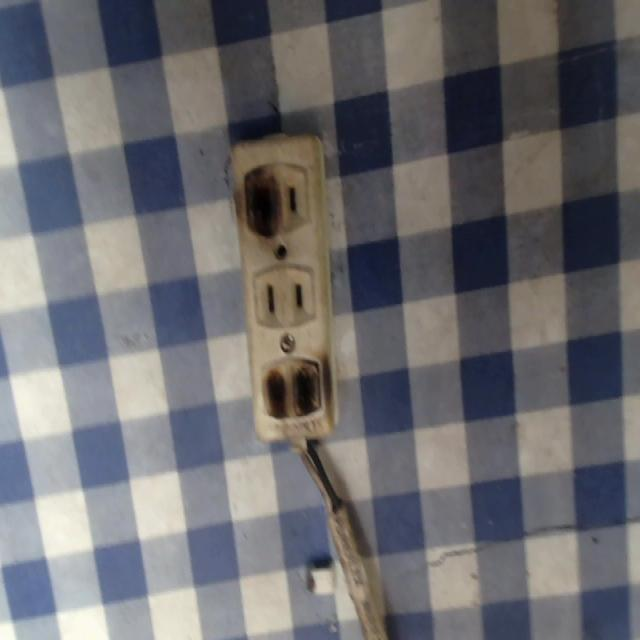-: (258, 349, 333, 427), (237, 155, 288, 240)
